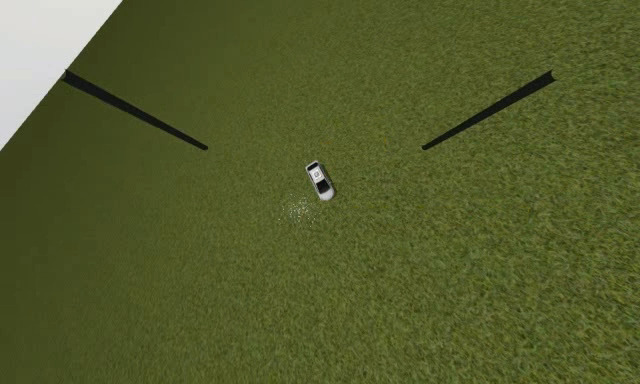Car: (304, 160, 336, 202)
Landing Pad: (312, 169, 322, 180)
